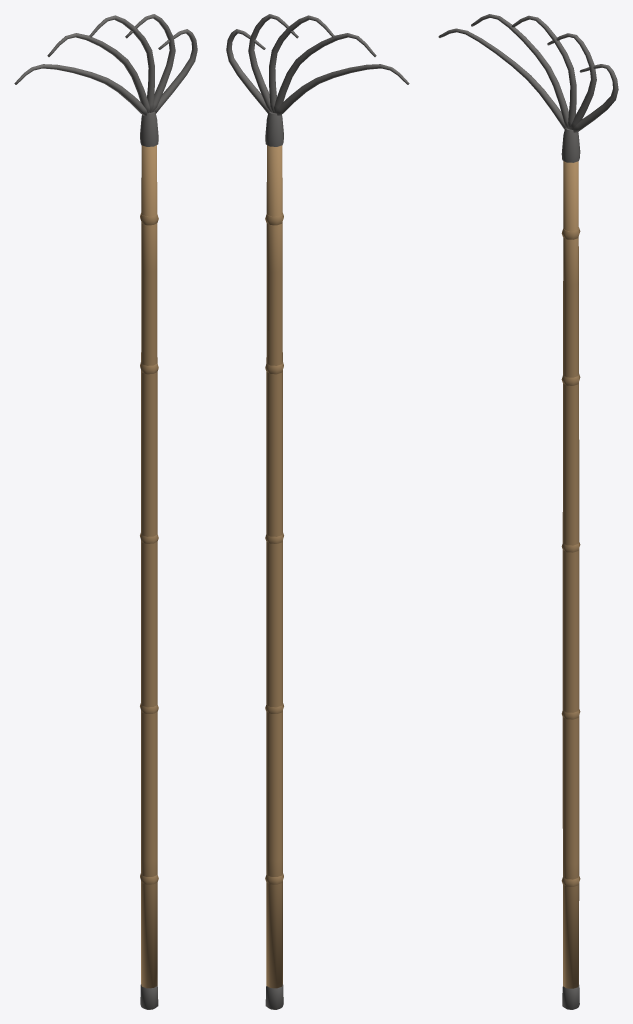
Rendered from kumade.glb.
3 views of the same model, side by side, from view 1: azimuth 30°, elevation 25°; view 2: azimuth 150°, elevation 25°; view 3: azimuth 330°, elevation 25° (orthographic).
Visible parts, largest first — view 1: kumade; view 2: kumade; view 3: kumade.
Part boxes in pixels (left/top/right/bottom): kumade: left=14, top=14, right=197, bottom=1009; kumade: left=226, top=14, right=409, bottom=1009; kumade: left=438, top=14, right=618, bottom=1009.
Size of the model in its own units: 0.9006 by 4.7 by 0.084.
